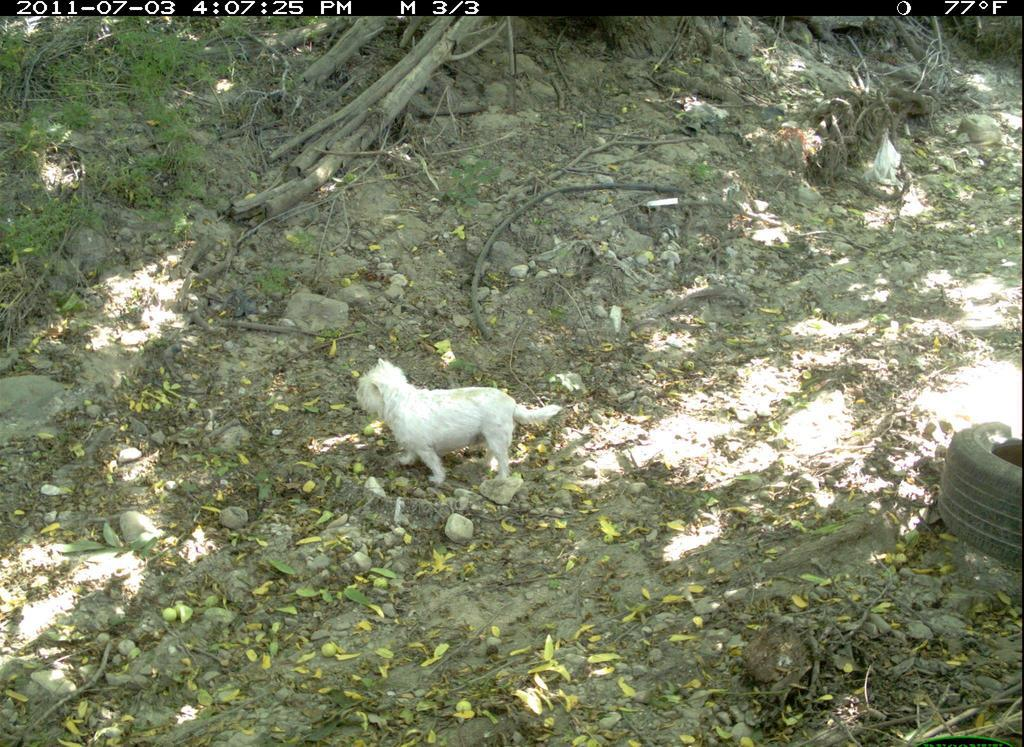dog: (345, 349, 573, 515)
